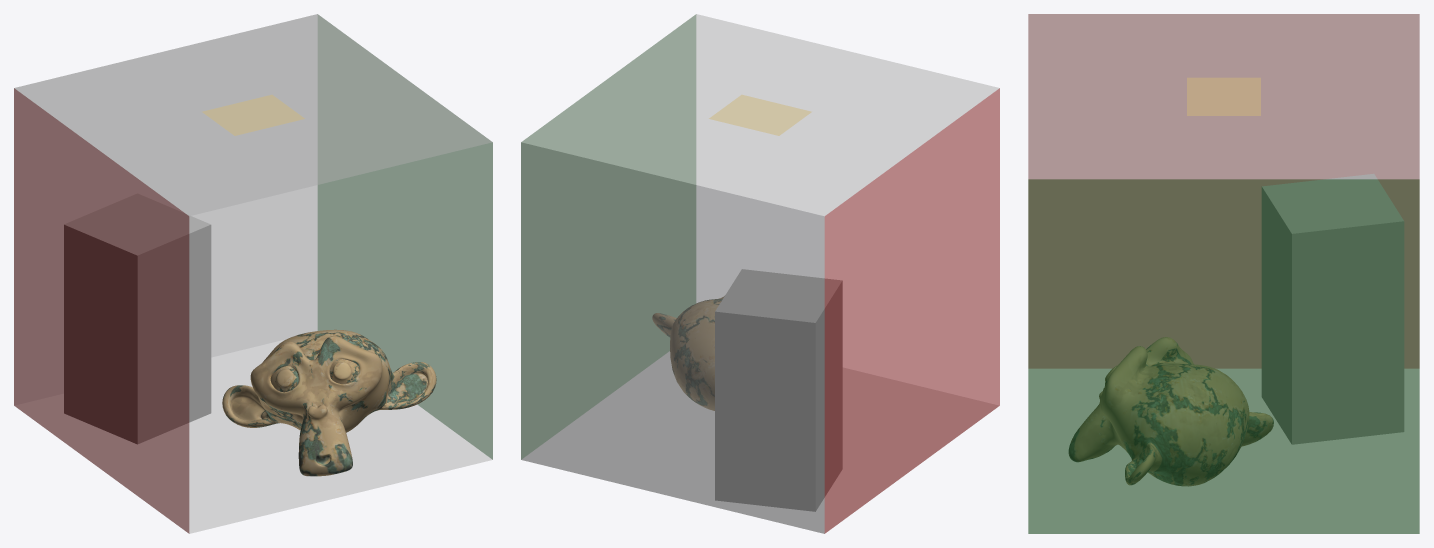
File: cornel_box.fbx
3 views of the same model, side by side, from view 1: azimuth 30°, elevation 25°; view 2: azimuth 150°, elevation 25°; view 3: azimuth 270°, elevation 25° (orthographic). The views are drawn at different scales.
Visible parts, largest first — view 1: Plane.004, Plane.003, Plane.002, Plane, Cube.002, Plane.001, Suzanne.001, Plane.005; view 2: Plane.004, Plane.003, Plane.002, Plane, Plane.001, Cube.002, Suzanne.001, Plane.005; view 3: Plane.002, Plane.003, Plane, Plane.001, Cube.002, Suzanne.001, Plane.005.
Part boxes in pixels (x1=…): Plane.004: x1=14, y1=14, x2=317, y2=405; Plane.003: x1=14, y1=88, x2=189, y2=533; Plane.002: x1=317, y1=15, x2=492, y2=459; Plane: x1=14, y1=14, x2=491, y2=216; Cube.002: x1=64, y1=193, x2=211, y2=444; Plane.001: x1=15, y1=339, x2=492, y2=533; Suzanne.001: x1=222, y1=329, x2=436, y2=476; Plane.005: x1=203, y1=95, x2=304, y2=135; Plane.004: x1=521, y1=142, x2=824, y2=533; Plane.003: x1=824, y1=88, x2=999, y2=533; Plane.002: x1=521, y1=15, x2=695, y2=459; Plane: x1=522, y1=14, x2=999, y2=216; Plane.001: x1=522, y1=351, x2=998, y2=533; Cube.002: x1=715, y1=269, x2=842, y2=511; Suzanne.001: x1=652, y1=296, x2=724, y2=410; Plane.005: x1=709, y1=95, x2=810, y2=135; Plane.002: x1=1028, y1=179, x2=1419, y2=533; Plane.003: x1=1028, y1=14, x2=1419, y2=368; Plane: x1=1028, y1=14, x2=1419, y2=179; Plane.001: x1=1028, y1=369, x2=1419, y2=533; Cube.002: x1=1261, y1=174, x2=1404, y2=444; Suzanne.001: x1=1068, y1=337, x2=1273, y2=486; Plane.005: x1=1187, y1=78, x2=1260, y2=115.
Bounding box in the file's own units: 185 × 185 × 186.
Materials: 6 (1 with a texture image).
